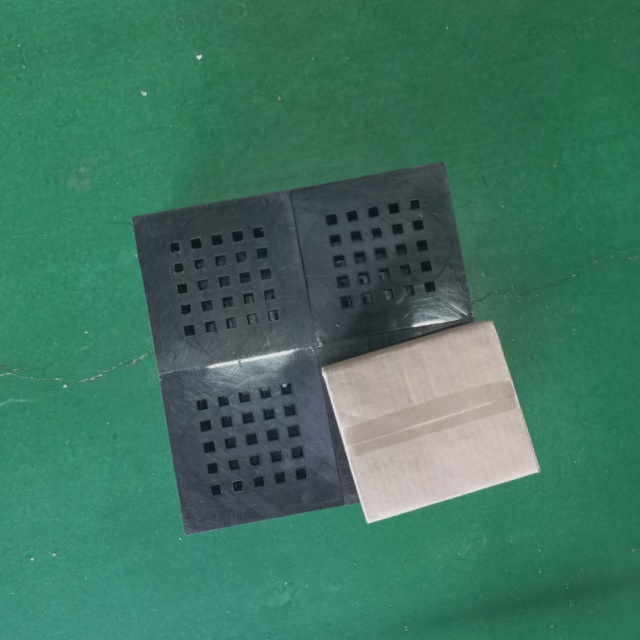box: (318, 315, 542, 526)
pallet: (124, 156, 508, 549)
